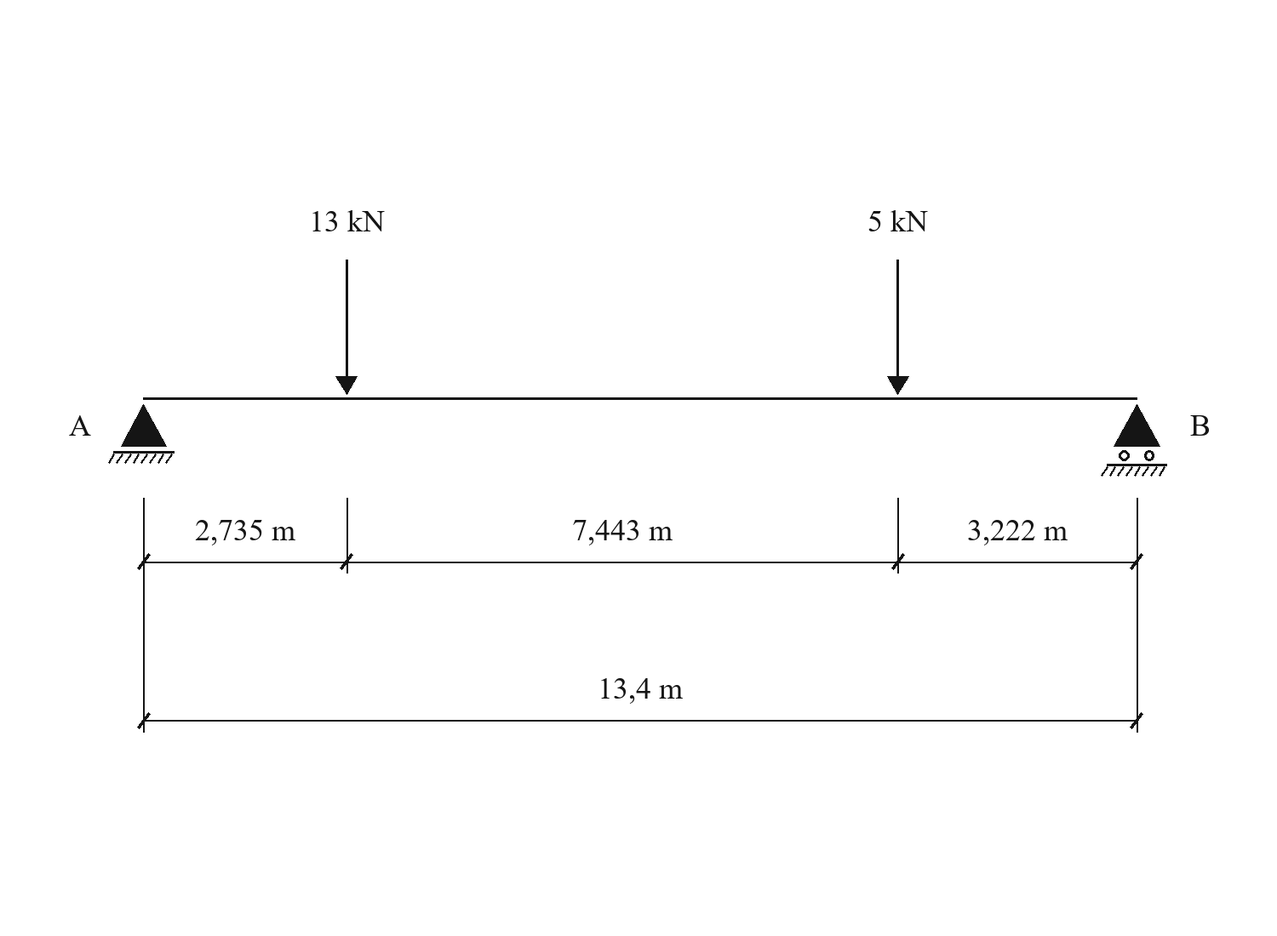pin_support: (108, 404, 175, 464)
point_load: (335, 260, 358, 395), (887, 260, 909, 395)
roller_support: (1101, 404, 1167, 477)
